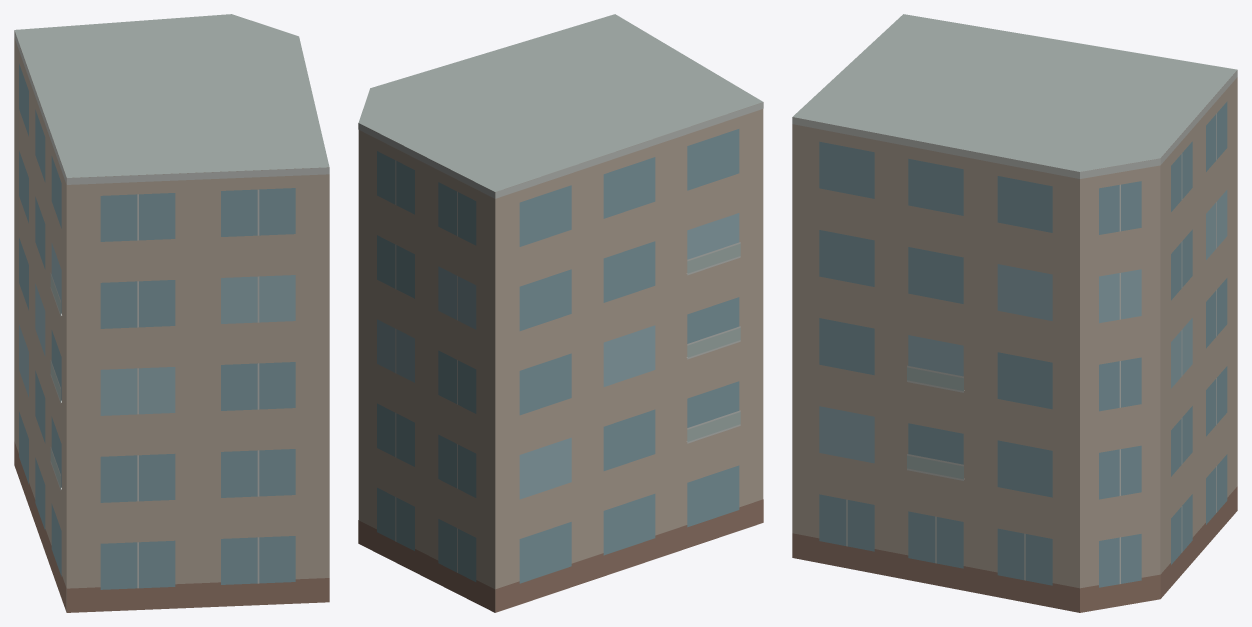
The model's file is survey-upis-32880269.glb.
3 renders of one model, left to right at view 1: azimuth 30°, elevation 25°; view 2: azimuth 150°, elevation 25°; view 3: azimuth 270°, elevation 25°, orthographic. The views are drawn at different scales.
Visible parts, largest first — view 1: survey-upis-32880269.tmp; view 2: survey-upis-32880269.tmp; view 3: survey-upis-32880269.tmp.
Part boxes in pixels (x1,y1,x2,y2): survey-upis-32880269.tmp: (14, 14, 329, 612); survey-upis-32880269.tmp: (358, 14, 763, 612); survey-upis-32880269.tmp: (792, 14, 1237, 612).
Size of the model in its own units: 11.65 by 15.15 by 13.88.
